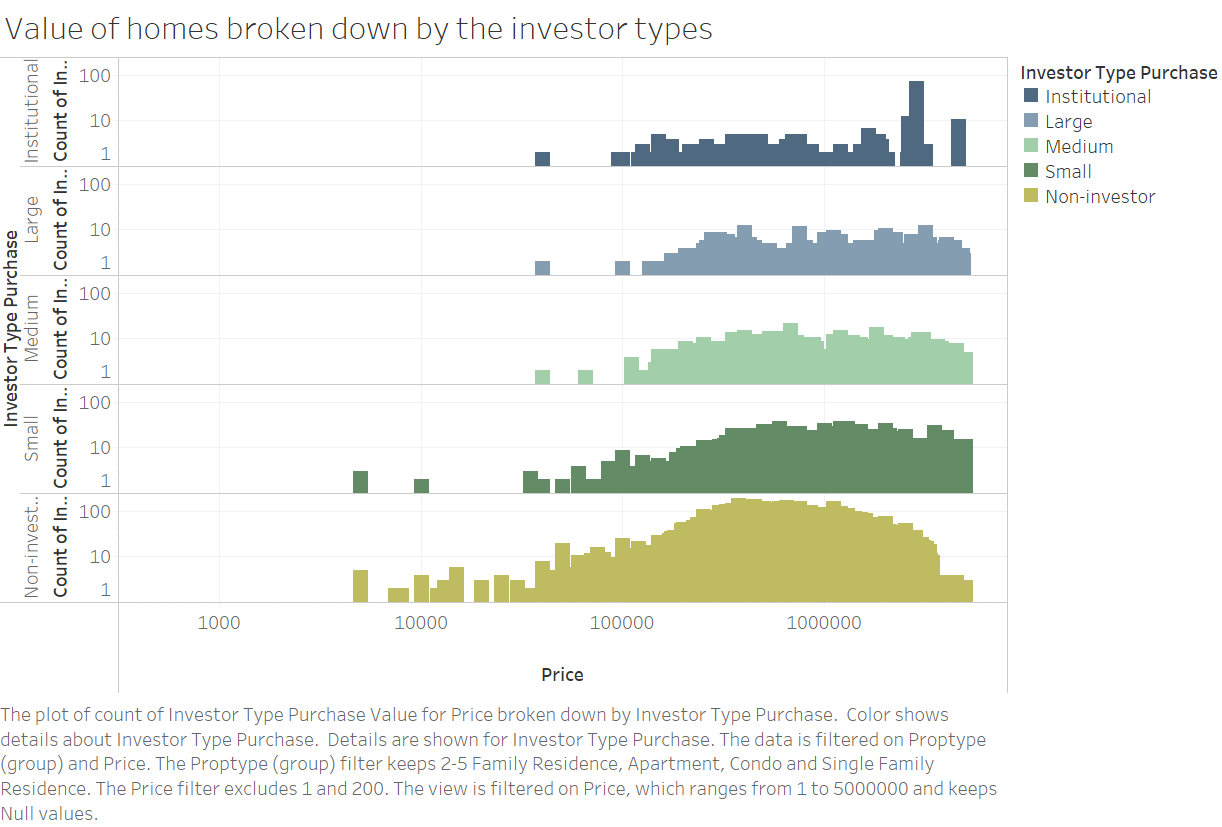

What the dashboard file says about the page in this screenshot:
{"tool":"tableau","page":{"name":"Dashboard 1","canvas":[1000,800],"ordinal":0},"visuals":[{"type":"worksheet","title":"Sheet 2","mark":"Bar","rows":["Year"],"box":[8,8,759.7,784]},{"type":"legend","title":"Sheet 2","param":"[federated.0ll3gzu0fbkppw1ernb2y09t1gbt].[Grouped ages]","box":[767.7,8,224.3,784]}]}

Visuals, with their boxes on the page's 1000x800 design canvas (x1, y1, x2, y2). These are canvas units, not pixel positions in the 1222x827 screenshot, which may show the page scaled, cropped or inside an application window:
"Sheet 2" worksheet (Bar marks): crop(8, 8, 768, 792)
"Sheet 2" legend: crop(768, 8, 992, 792)
